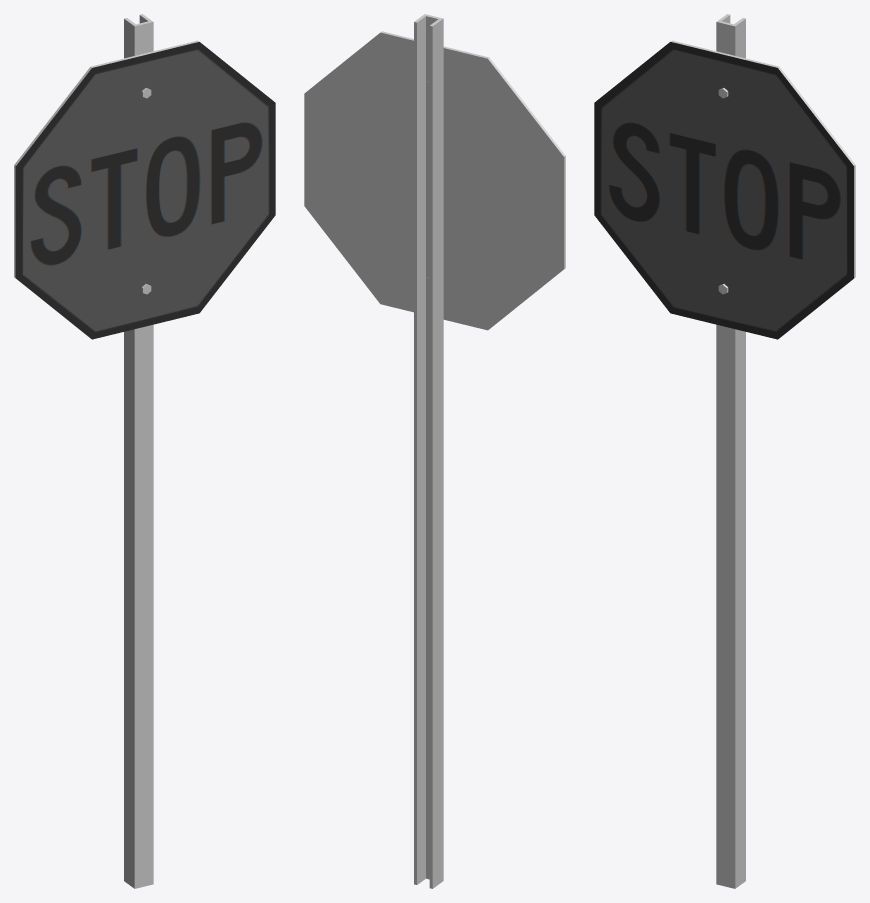
Rendered from sign_stop.glb.
3 renders of one model, left to right at view 1: azimuth 30°, elevation 25°; view 2: azimuth 150°, elevation 25°; view 3: azimuth 330°, elevation 25°, orthographic.
Parts seen in each view (by area): view 1: Cylinder.001, Cylinder.003; view 2: Cylinder.003; view 3: Cylinder.001, Cylinder.003.
Boxes of the visible parts, x1,y1,x2,y2 form: Cylinder.001: (16,42,275,339); Cylinder.003: (14,14,199,888); Cylinder.003: (304,14,565,888); Cylinder.001: (594,42,853,339); Cylinder.003: (670,14,855,888).
Bounding box in the file's own units: 27.72 × 88 × 2.57.
2 materials, 1 textured.
